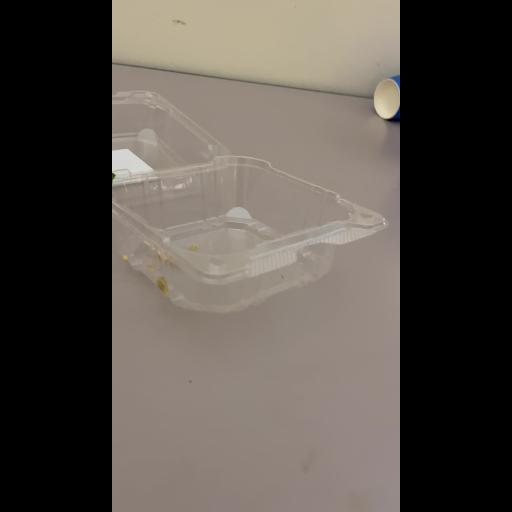small_plastic_container: (112, 82, 396, 338)
